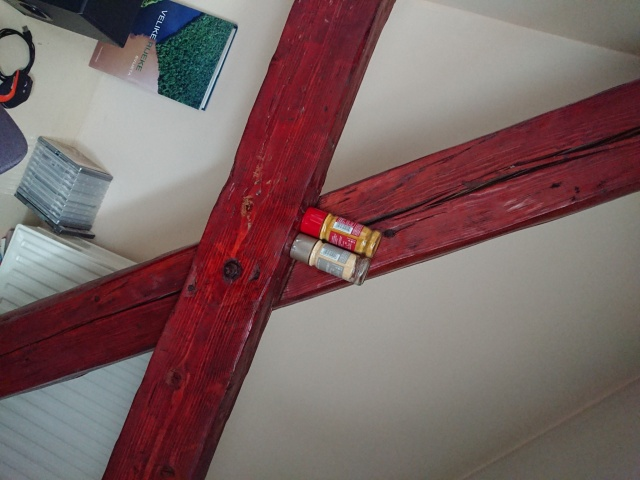Kotanyi Curry Spices Mix 70g: (297, 205, 384, 260)
Kotanyi Garlic Granules 70g: (287, 231, 374, 288)
